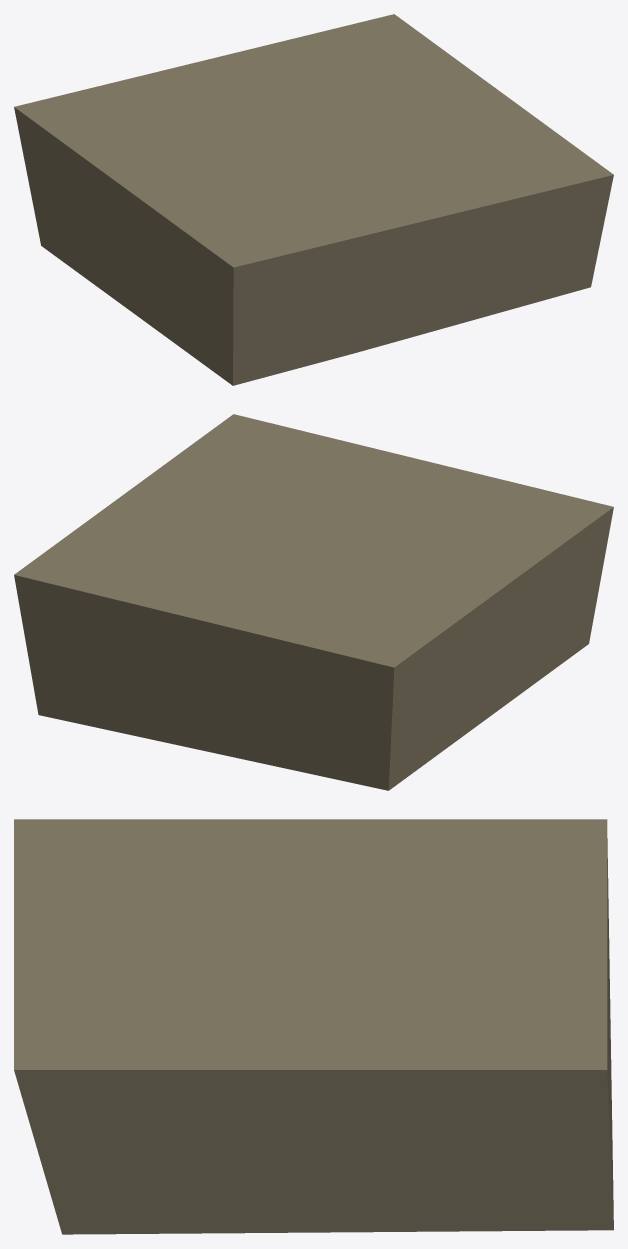
Rendered from CaveTopWall.fbx.
3 views of the same model, one above another, from view 1: azimuth 30°, elevation 25°; view 2: azimuth 150°, elevation 25°; view 3: azimuth 270°, elevation 25° (orthographic). The views are drawn at different scales.
Parts seen in each view (by area): view 1: CaveTopWall; view 2: CaveTopWall; view 3: CaveTopWall.
Boxes of the visible parts, box(x1,y1,x2,y2) form: CaveTopWall: box(14, 14, 613, 385); CaveTopWall: box(14, 414, 613, 790); CaveTopWall: box(14, 819, 613, 1234).
Size of the model in its own units: 200 by 82.95 by 202.
